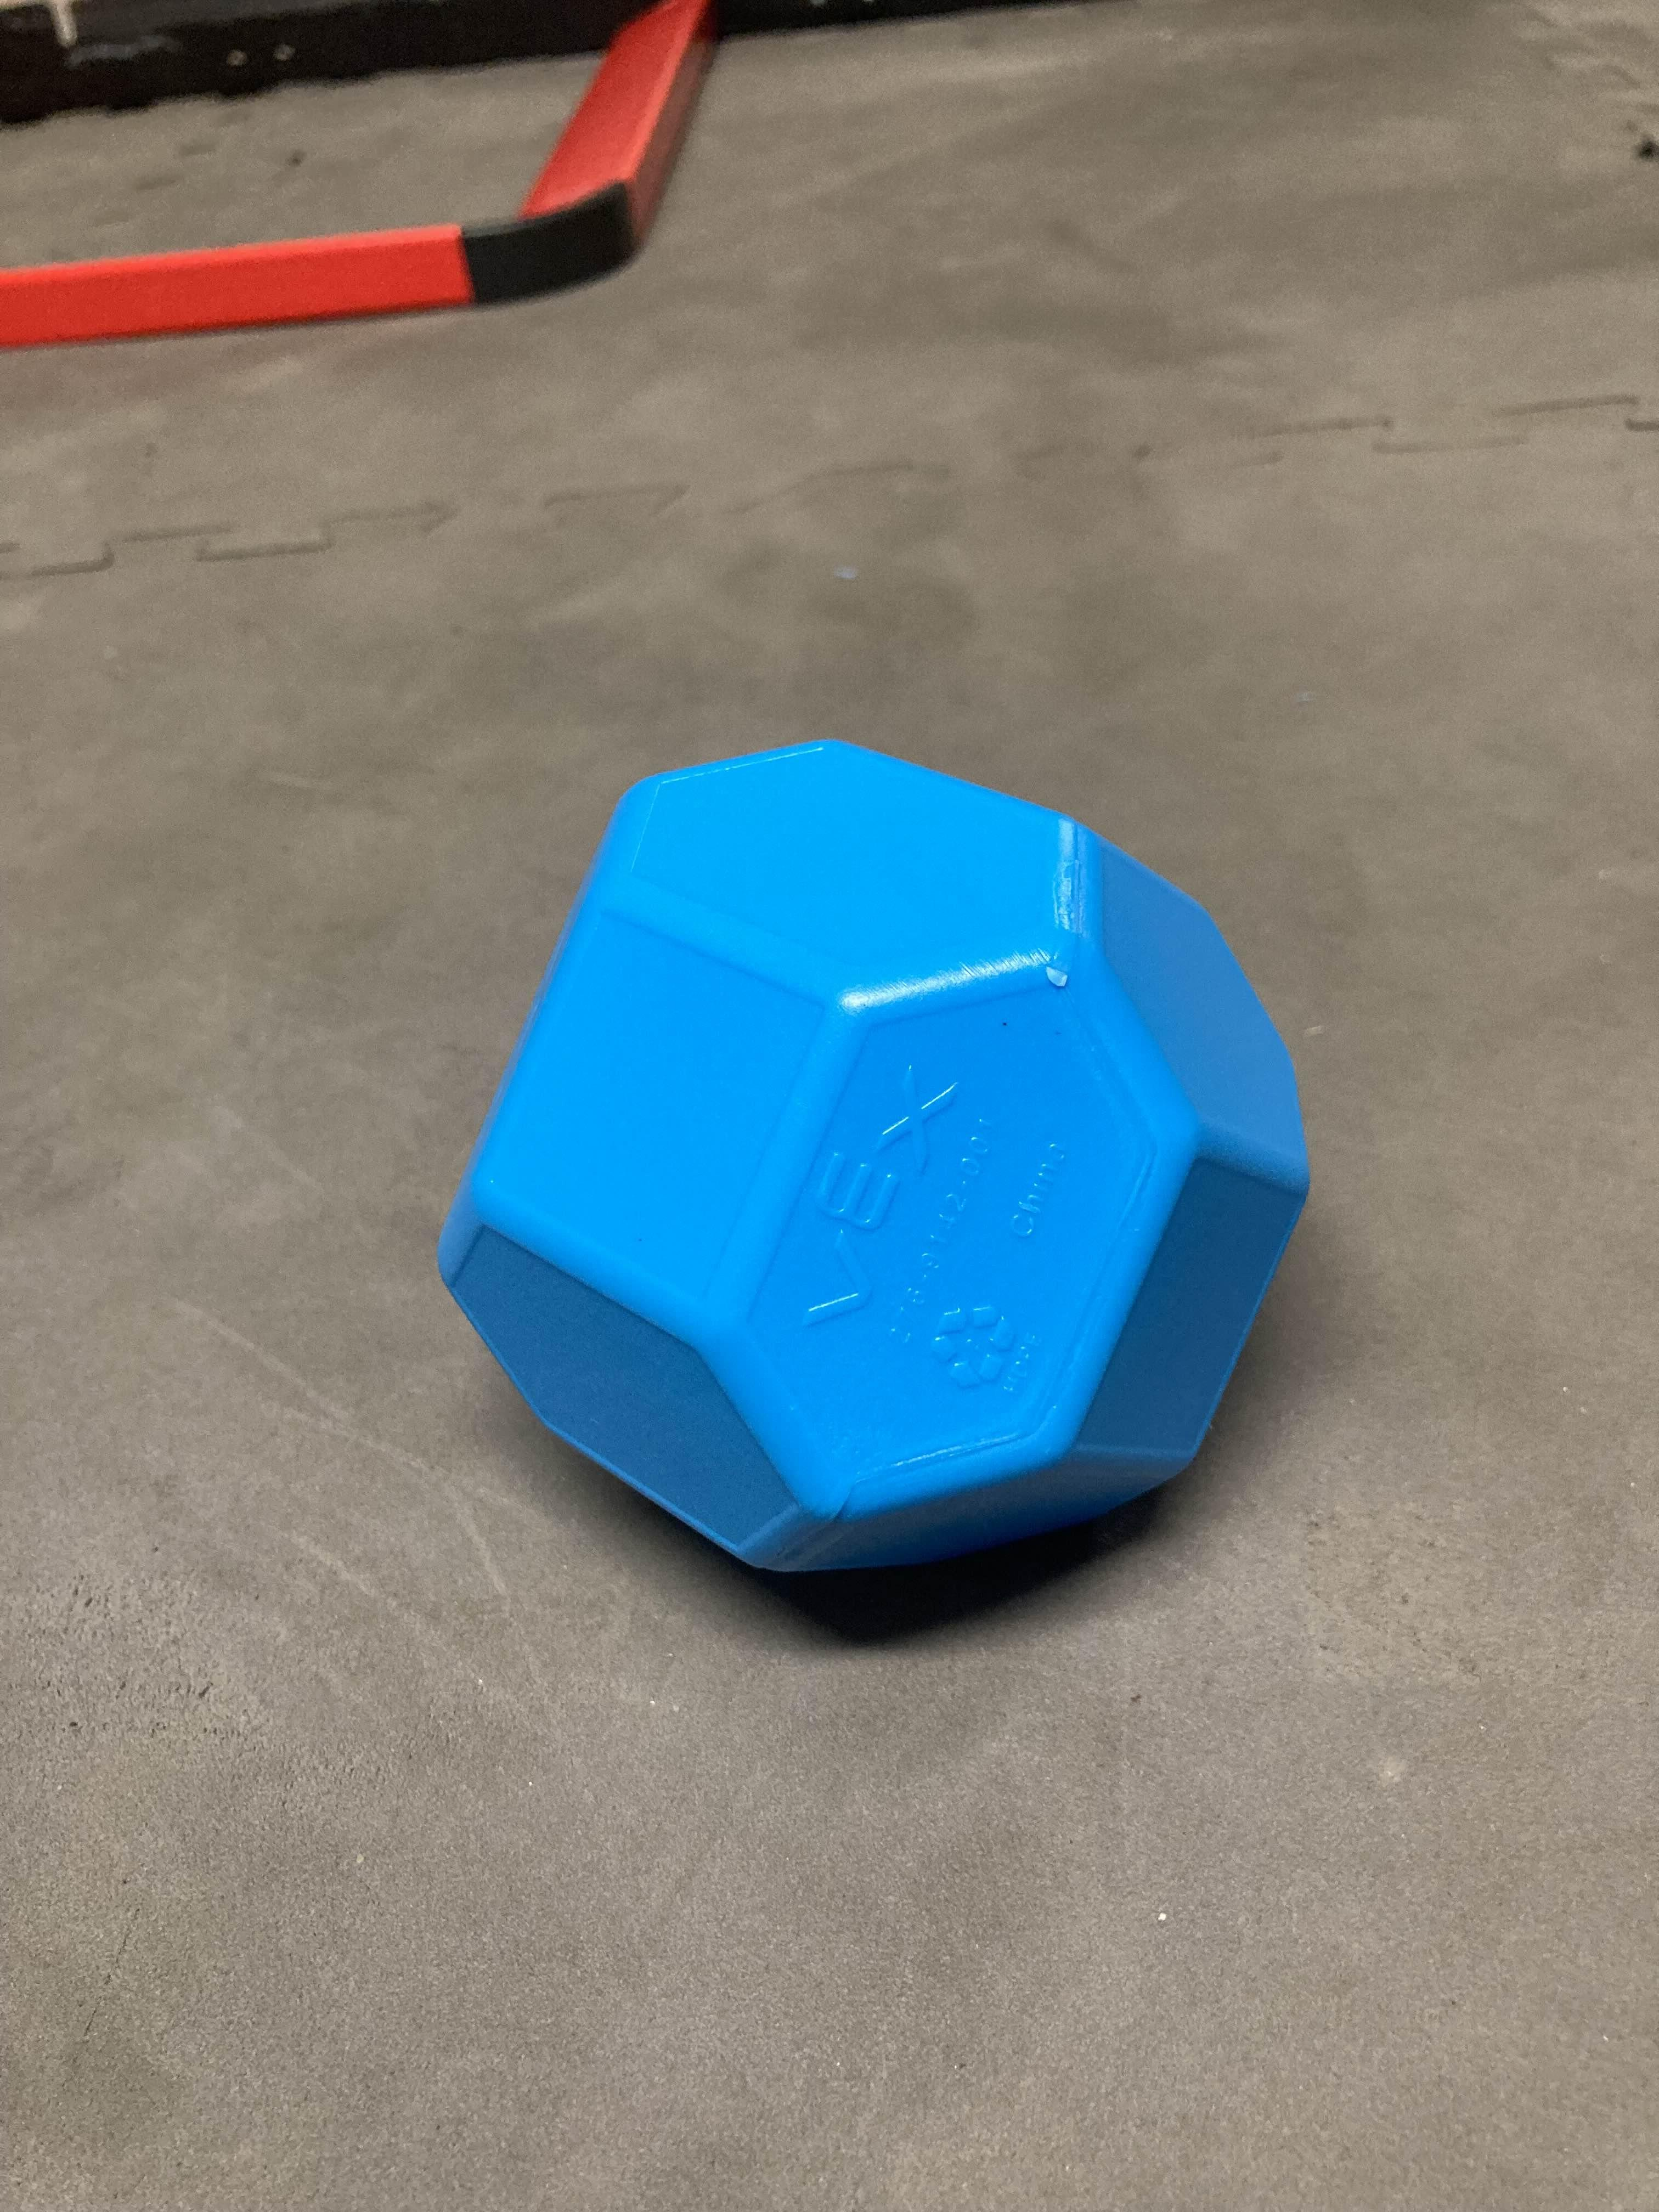Vex-Pieces-BLUE: (434, 740, 1314, 1590)
